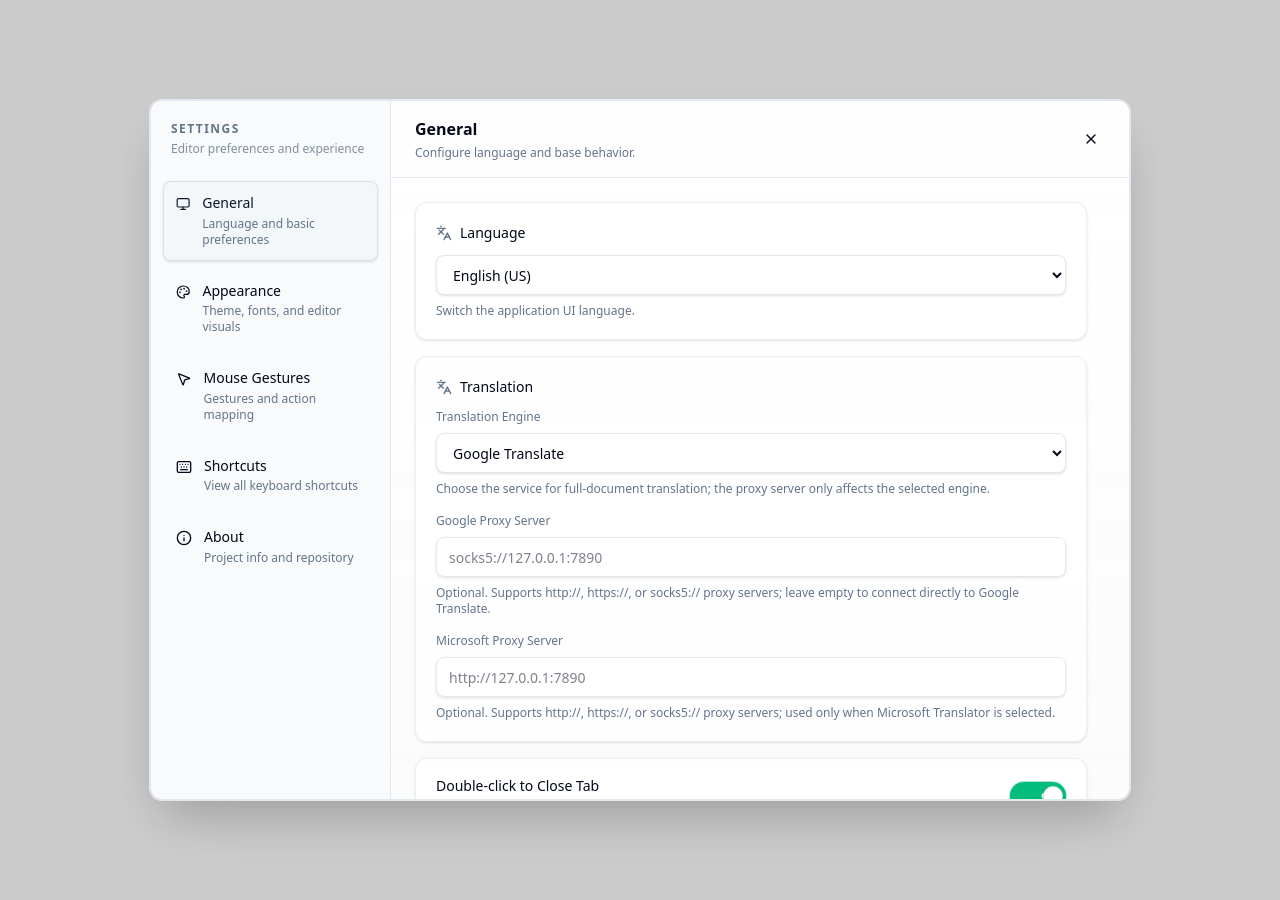
Scenario: SettingsModal › reorders and removes fonts in appearance font priority list
This screenshot has width=1280, height=900.
Click the button "Appearance Theme, fonts, and editor visuals" at x=270, y=308, box [163,268,378,348]
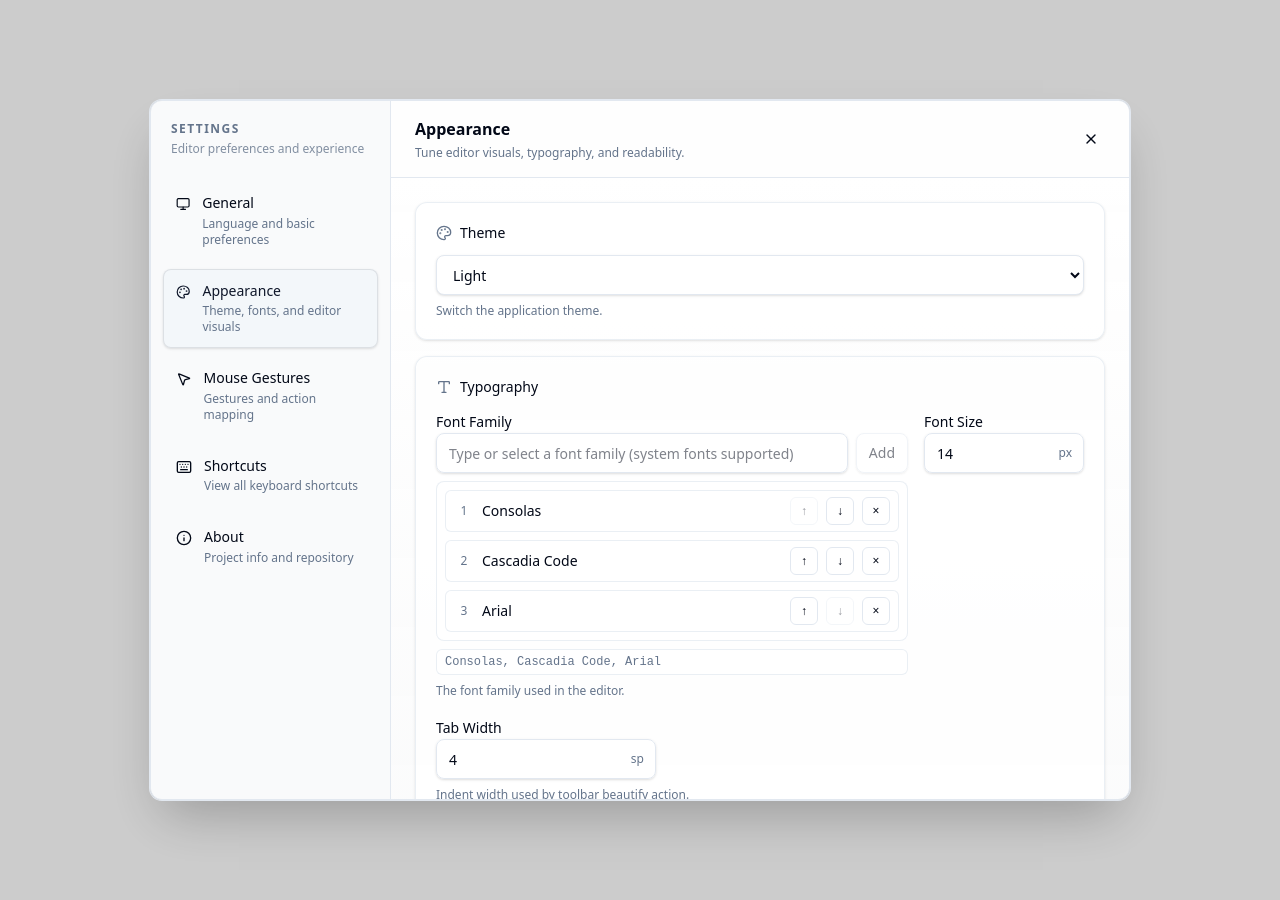
Click the button named "Move Font Down" at x=840, y=511, box [826,497,854,525]
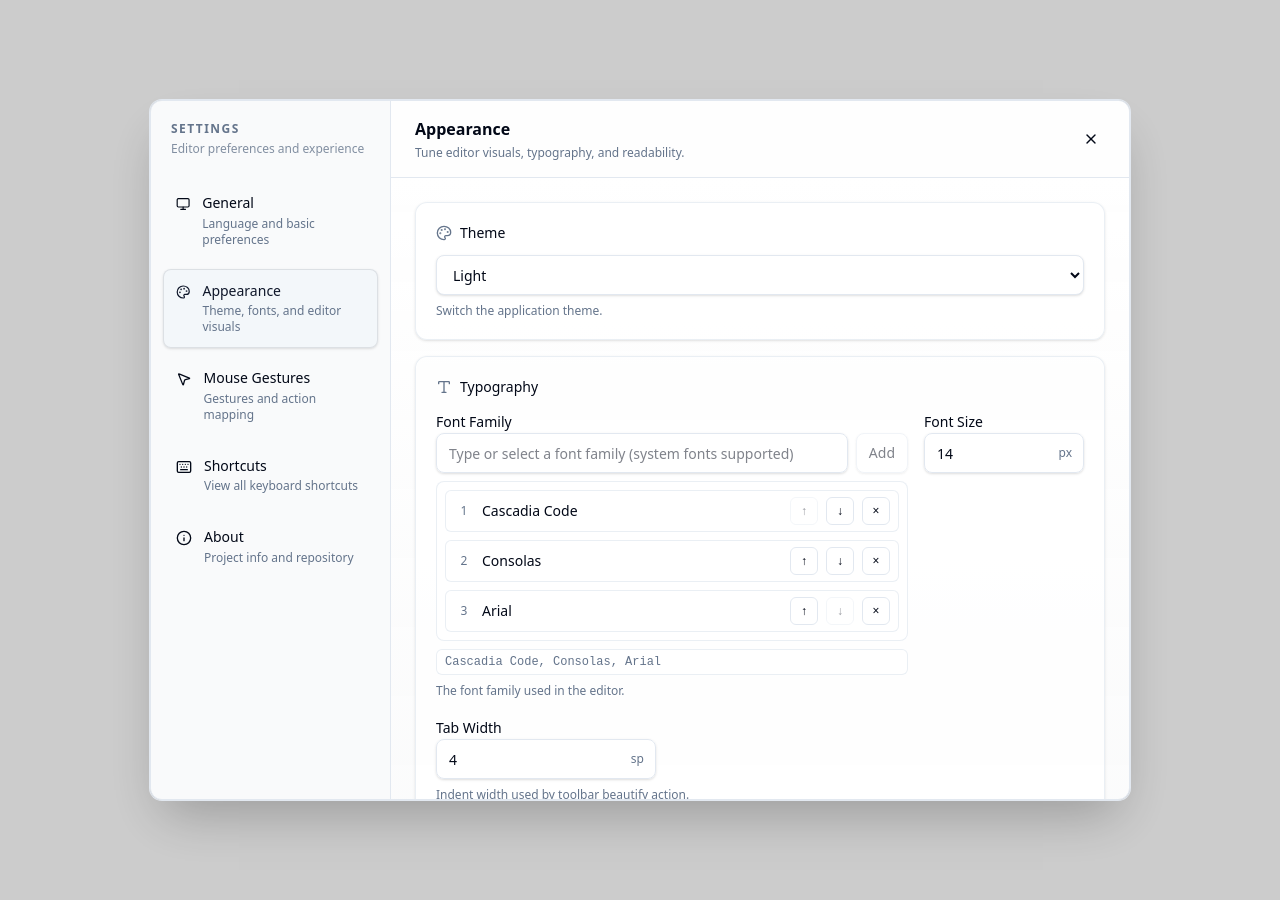
Expected: the text "Cascadia Code, Consolas, Arial" is shown, [436,649,908,675]
Click the button named "Remove Font" at x=876, y=611, box [862,597,890,625]
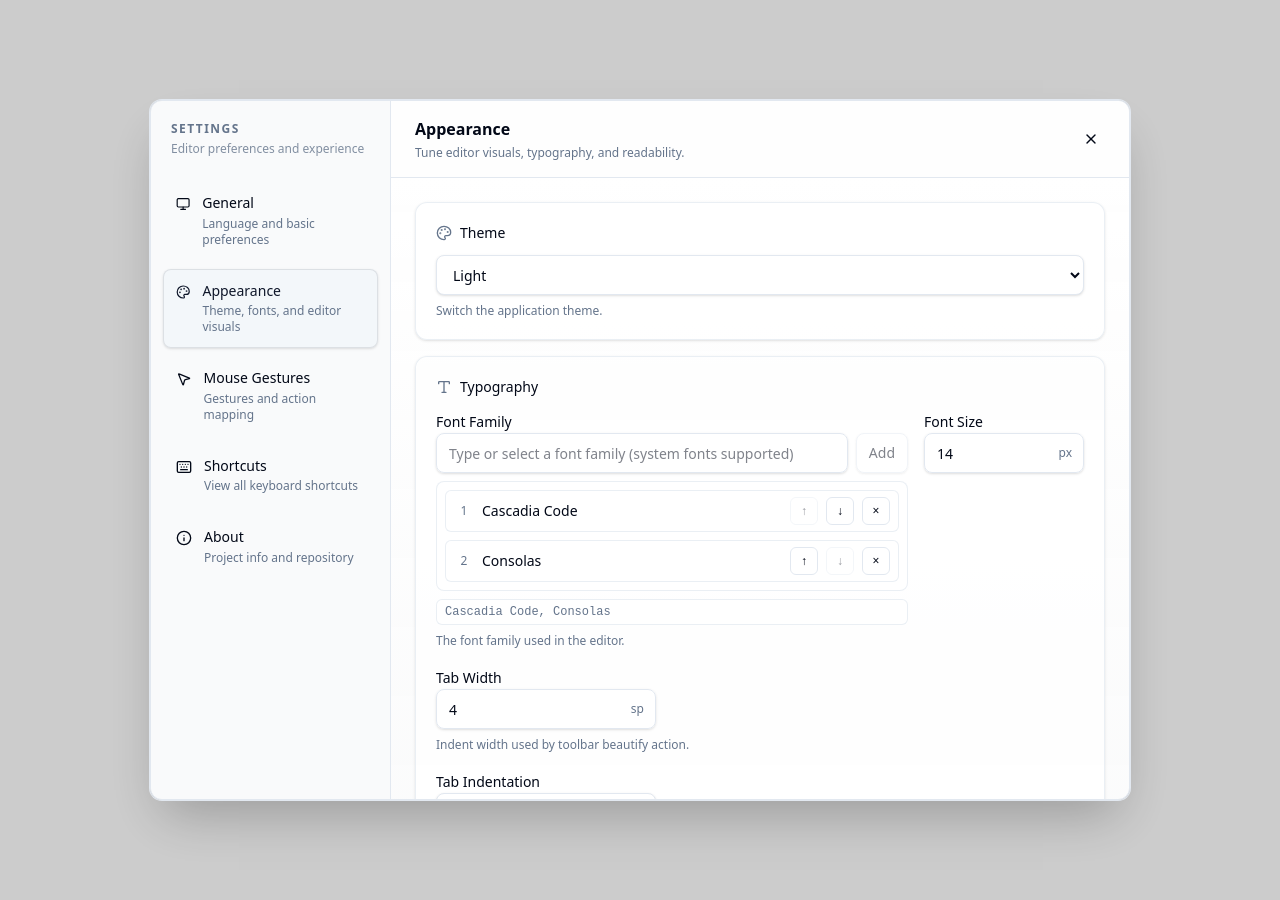
Expected: the text "Cascadia Code, Consolas" is shown, [436,599,908,625]
